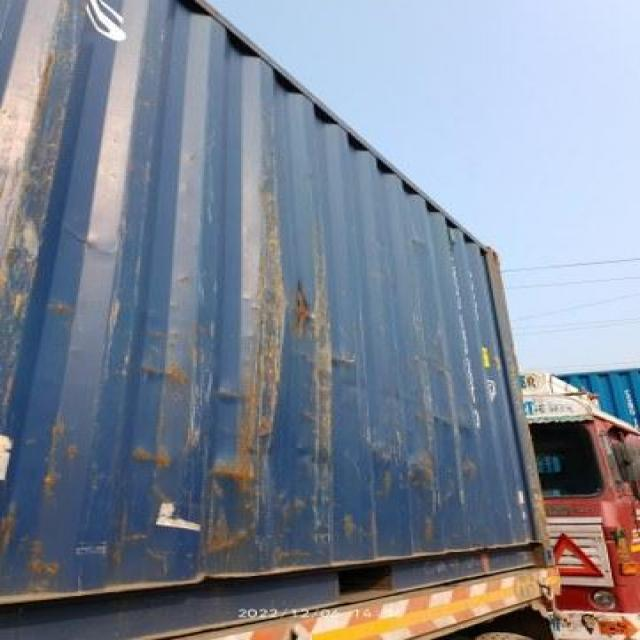Rust: (192, 443, 264, 514), (282, 276, 325, 344)
